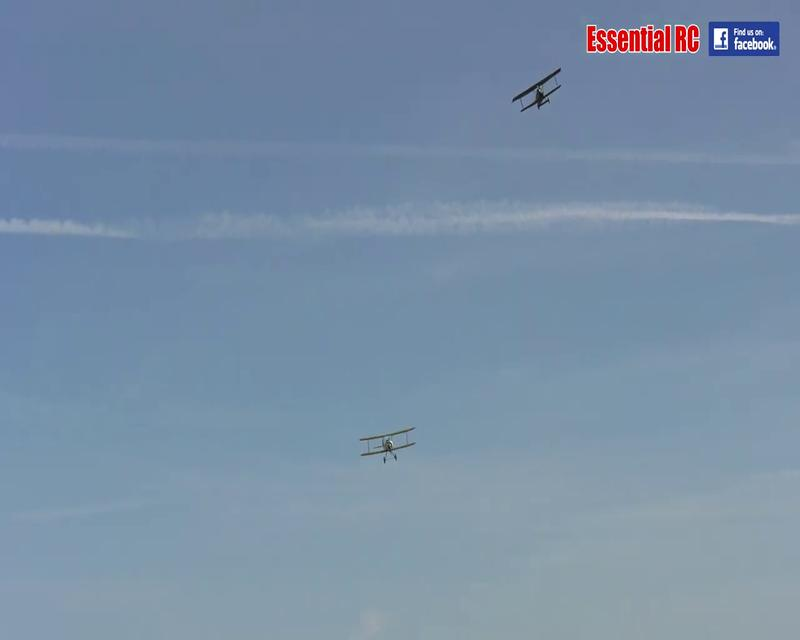UAV: (511, 66, 563, 114), (357, 424, 417, 462)
